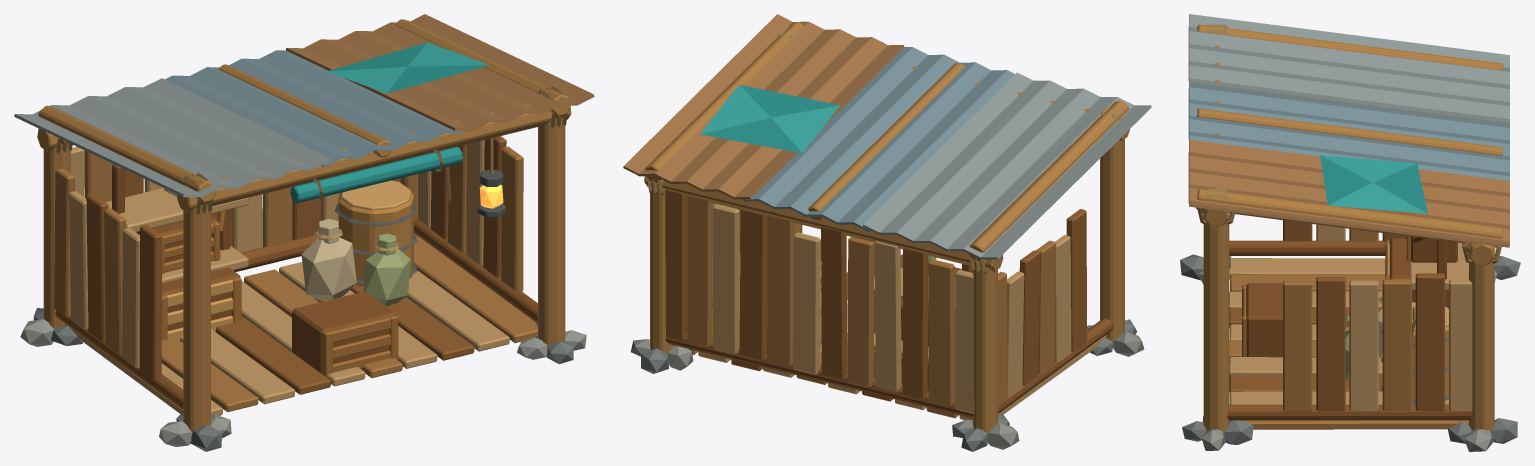
Rendered from makeshift_storage_shed.glb.
The picture shows the model from 3 angles, left to right: view 1: azimuth 30°, elevation 25°; view 2: azimuth 150°, elevation 25°; view 3: azimuth 270°, elevation 25°; orthographic projection. The views are drawn at different scales.
Parts seen in each view (by area): view 1: Roof_Sheet_Left, Roof_Sheet_Center, Roof_Sheet_Right, Front_Right_Post, Front_Left_Post, Front_Header, Crate_Front_Body, Roof_Tarp_Repair, Floor_Board_10, Left_Wall_Plank_6, Floor_Board_04, Supply_Barrel_Body (+44 smaller); view 2: Roof_Sheet_Left, Roof_Sheet_Center, Roof_Sheet_Right, Roof_Tarp_Repair, Front_Left_Post, Back_Wall_Plank_09, Back_Left_Post, Back_Wall_Plank_10, Back_Wall_Plank_08, Back_Wall_Plank_05, Back_Wall_Plank_04, Back_Wall_Plank_06 (+23 smaller); view 3: Roof_Sheet_Left, Roof_Sheet_Center, Roof_Sheet_Right, Front_Right_Post, Roof_Tarp_Repair, Right_Rafter, Right_Wall_Plank_2, Right_Wall_Plank_5, Right_Wall_Plank_3, Right_Wall_Plank_6, Right_Wall_Plank_4, Back_Right_Post (+32 smaller).
Part boxes in pixels (<box>): Roof_Sheet_Left: <box>14,78,331,197</box>; Roof_Sheet_Center: <box>165,50,462,167</box>; Roof_Sheet_Right: <box>286,14,594,131</box>; Front_Right_Post: <box>538,118,565,344</box>; Front_Left_Post: <box>183,204,210,432</box>; Front_Header: <box>177,103,571,212</box>; Crate_Front_Body: <box>292,291,396,375</box>; Roof_Tarp_Repair: <box>326,42,488,93</box>; Floor_Board_10: <box>414,236,537,342</box>; Left_Wall_Plank_6: <box>139,224,161,381</box>; Floor_Board_04: <box>215,316,330,394</box>; Supply_Barrel_Body: <box>338,192,413,286</box>; Roof_Sheet_Left: <box>863,72,1151,259</box>; Roof_Sheet_Center: <box>743,47,1014,231</box>; Roof_Sheet_Right: <box>623,14,904,199</box>; Roof_Tarp_Repair: <box>700,85,839,153</box>; Front_Left_Post: <box>1100,139,1124,342</box>; Back_Wall_Plank_09: <box>739,209,767,361</box>; Back_Left_Post: <box>972,261,997,433</box>; Back_Wall_Plank_10: <box>713,204,739,354</box>; Back_Wall_Plank_08: <box>767,215,794,366</box>; Back_Wall_Plank_05: <box>847,237,874,387</box>; Back_Wall_Plank_04: <box>874,241,901,392</box>; Back_Wall_Plank_06: <box>821,227,847,379</box>; Roof_Sheet_Left: <box>1188,14,1509,125</box>; Roof_Sheet_Center: <box>1188,85,1509,180</box>; Roof_Sheet_Right: <box>1188,140,1509,247</box>; Front_Right_Post: <box>1203,213,1229,433</box>; Roof_Tarp_Repair: <box>1320,155,1427,213</box>; Right_Rafter: <box>1196,188,1503,247</box>; Right_Wall_Plank_2: <box>1415,273,1444,411</box>; Right_Wall_Plank_5: <box>1316,276,1345,411</box>; Right_Wall_Plank_3: <box>1382,279,1411,410</box>; Right_Wall_Plank_6: <box>1283,280,1312,411</box>; Right_Wall_Plank_4: <box>1349,280,1378,411</box>; Back_Right_Post: <box>1469,252,1494,431</box>.
Size of the model in its own units: 6.03 by 3.67 by 4.42.
